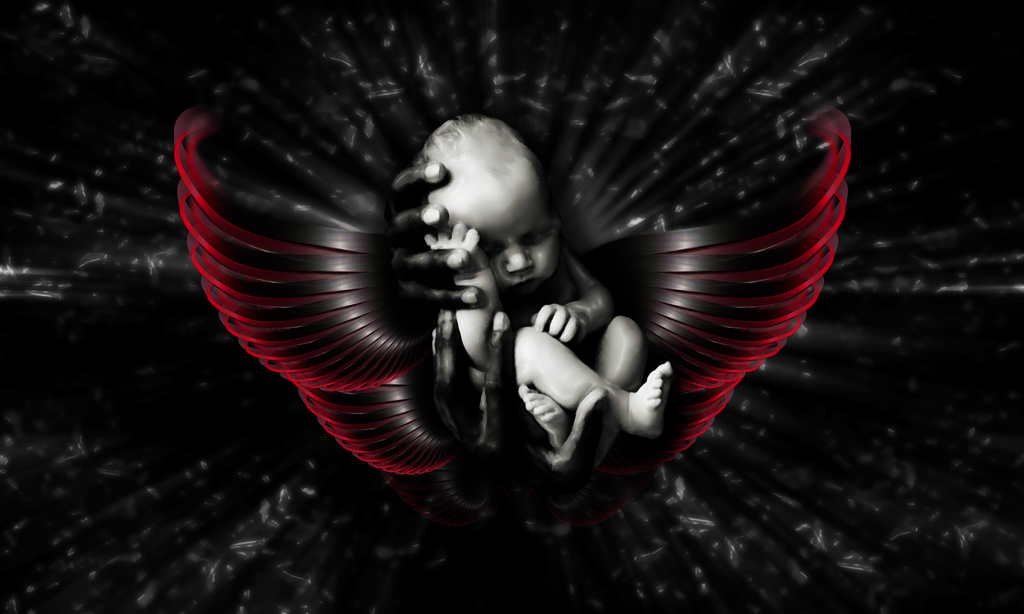Person: (411, 114, 673, 449), (392, 162, 609, 476)
